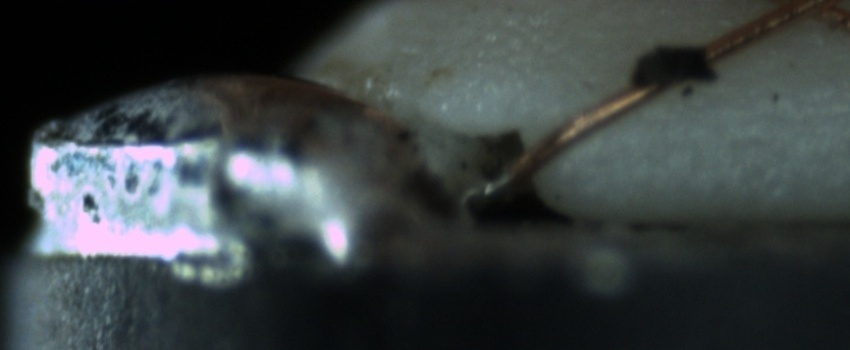CL: (767, 0, 847, 31)
DL: (676, 81, 850, 141)
